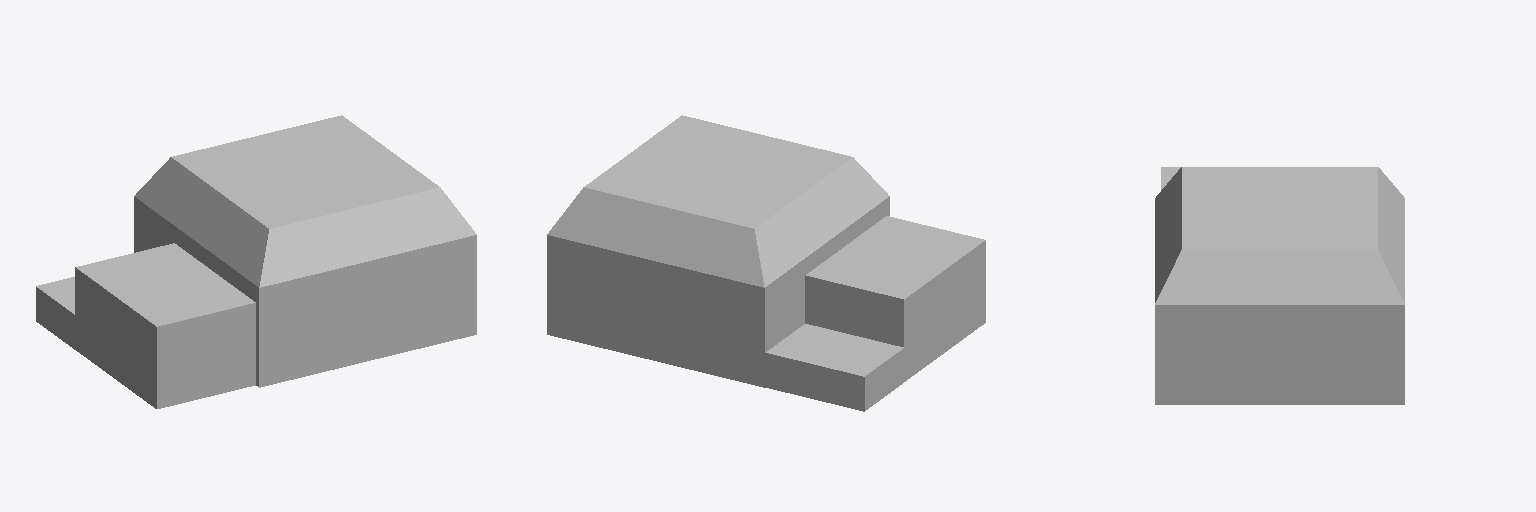
The model's file is Building.obj.
3 renders of one model, left to right at view 1: azimuth 30°, elevation 25°; view 2: azimuth 150°, elevation 25°; view 3: azimuth 270°, elevation 25°, orthographic.
Visible parts, largest first — view 1: Cube; view 2: Cube; view 3: Cube.
Boxes of the visible parts, x1=… form: Cube: x1=36, y1=115, x2=476, y2=408; Cube: x1=547, y1=115, x2=985, y2=411; Cube: x1=1155, y1=167, x2=1404, y2=404.
Bounding box in the file's own units: 29.22 × 12.64 × 20.01.